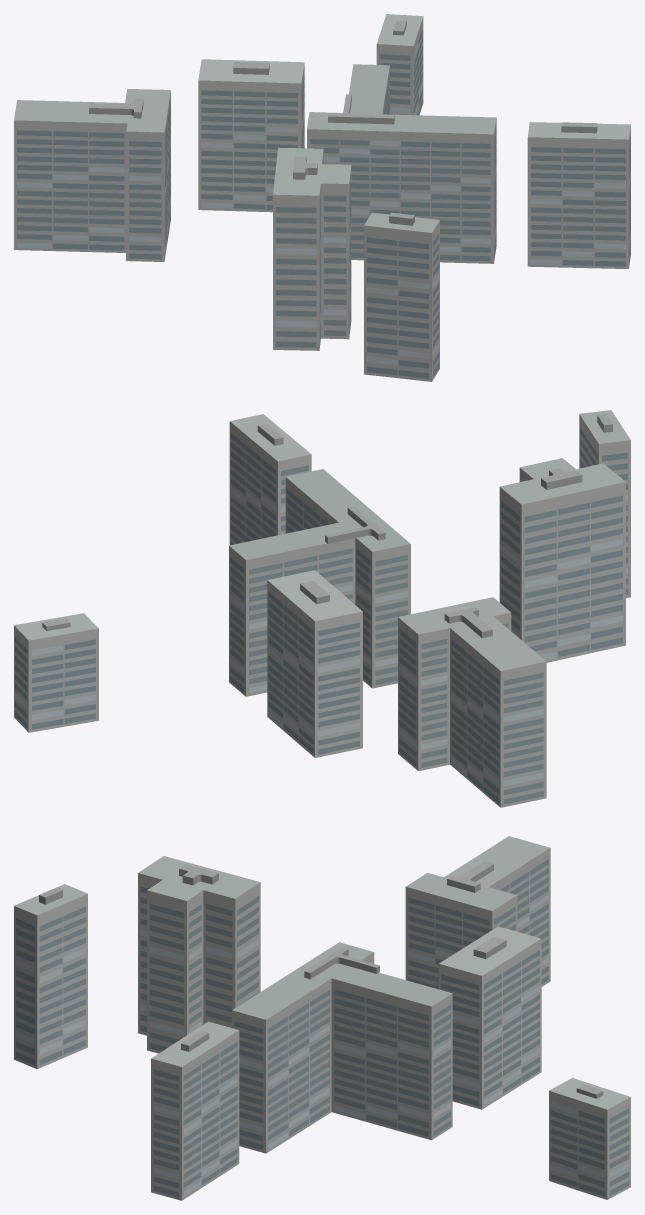
Rendered from apt-a15704007.glb.
3 views of the same model, one above another, from view 1: azimuth 30°, elevation 25°; view 2: azimuth 150°, elevation 25°; view 3: azimuth 270°, elevation 25° (orthographic). The views are drawn at different scales.
Parts seen in each view (by area): view 1: apt-a15704007; view 2: apt-a15704007; view 3: apt-a15704007.
Part boxes in pixels (x1=…): apt-a15704007: x1=14, y1=14, x2=630, y2=381; apt-a15704007: x1=14, y1=410, x2=630, y2=807; apt-a15704007: x1=14, y1=836, x2=630, y2=1200.
Size of the model in its own units: 141 by 47.81 by 160.
